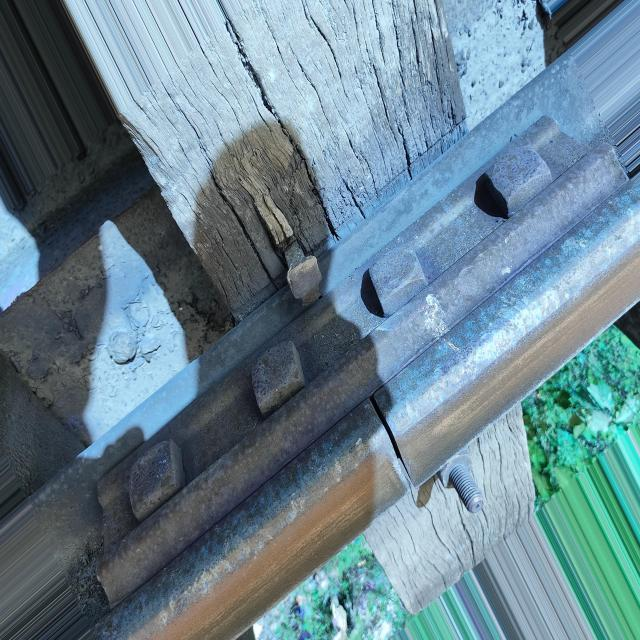Good Joint: (101, 113, 628, 614)
